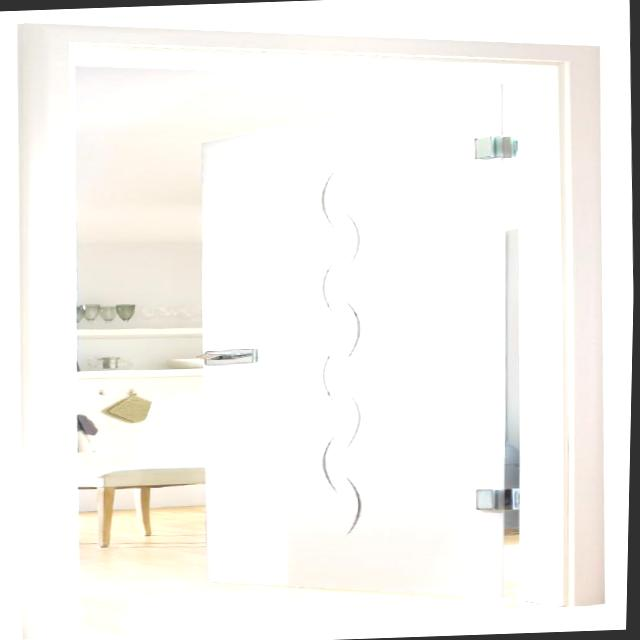semi-open: (0, 0, 624, 639)
